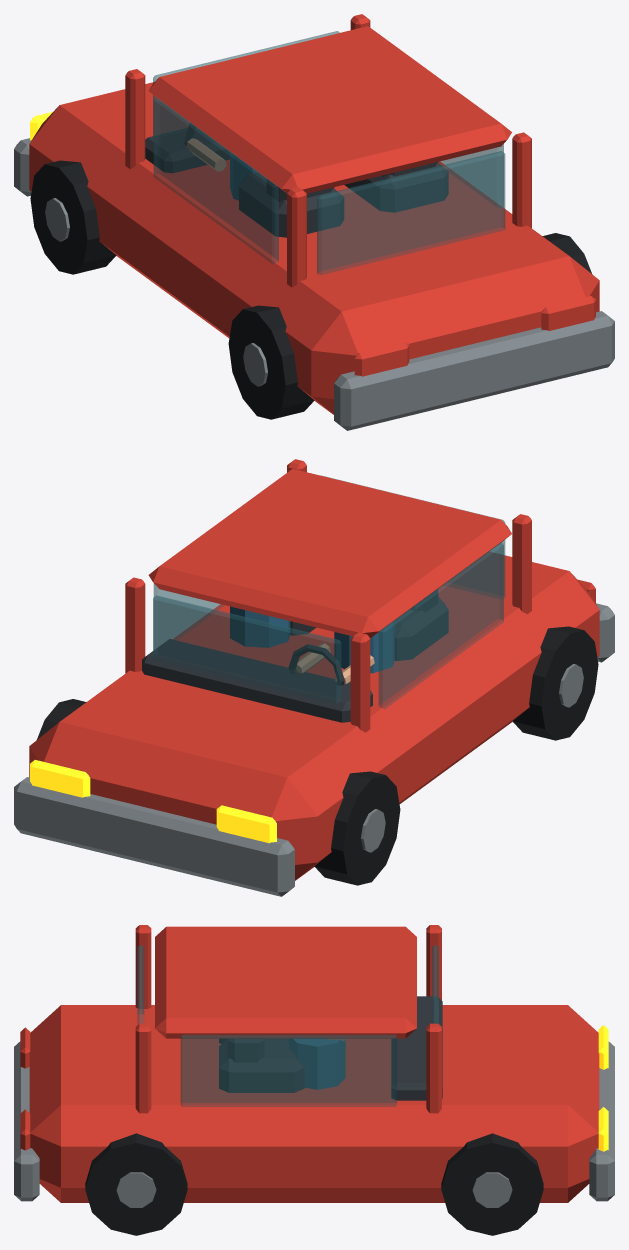
The model's file is car.glb.
The picture shows the model from 3 angles, top to bottom: view 1: azimuth 30°, elevation 25°; view 2: azimuth 150°, elevation 25°; view 3: azimuth 270°, elevation 25°; orthographic projection. The views are drawn at different scales.
Visible parts, largest first — view 1: CarBody, CarBodyRoof, RearBumper, RearWindow, SideWindow, Wheel, Wheel.001, Seat, Seat.001, Dashboard, SideWindow.001, CarBodyPillar (+11 smaller); view 2: CarBody, CarBodyRoof, FrontBumper, FrontWindow, SideWindow, Dashboard, Wheel.001, Wheel, SideWindow.001, Seat, CarBodyPillar, Passenger1Torso (+11 smaller); view 3: CarBody, CarBodyRoof, SideWindow.001, Wheel.002, Wheel.003, Seat.001, Dashboard, RearBumper, FrontBumper, Passenger1Torso, CarBodyPillar.003, CarBodyPillar.002 (+9 smaller).
Boxes of the visible parts, box(x1,y1,x2,y2) form: CarBody: box(29, 82, 599, 414); CarBodyRoof: box(149, 26, 511, 193); RearBumper: box(334, 311, 614, 430); RearWindow: box(317, 151, 505, 274); SideWindow: box(153, 97, 278, 263); Wheel: box(30, 160, 116, 274); Wheel.001: box(228, 305, 314, 419); Seat: box(239, 172, 343, 237); Seat.001: box(344, 162, 448, 212); Dashboard: box(145, 127, 229, 172); SideWindow.001: box(438, 144, 503, 206); CarBodyPillar: box(125, 69, 145, 169); CarBody: box(29, 552, 599, 880); CarBodyRoof: box(148, 469, 511, 638); FrontBumper: box(14, 777, 294, 896); FrontWindow: box(153, 595, 341, 703); SideWindow: box(378, 543, 503, 708); Dashboard: box(142, 639, 372, 722); Wheel.001: box(512, 626, 598, 740); Wheel: box(314, 771, 400, 885); SideWindow.001: box(153, 583, 224, 649); Seat: box(395, 597, 448, 660); CarBodyPillar: box(350, 632, 370, 732); Passenger1Torso: box(230, 606, 290, 647); CarBody: box(29, 1005, 599, 1202); CarBodyRoof: box(155, 926, 416, 1038); SideWindow.001: box(180, 1035, 396, 1106); Wheel.002: box(441, 1133, 543, 1235); Wheel.003: box(85, 1133, 187, 1235); Seat.001: box(219, 1039, 304, 1092); Dashboard: box(391, 996, 442, 1100); RearBumper: box(14, 1041, 39, 1201); FrontBumper: box(589, 1041, 614, 1201); Passenger1Torso: box(289, 1039, 345, 1089); CarBodyPillar.003: box(135, 1023, 151, 1113); CarBodyPillar.002: box(426, 1023, 441, 1113).
Bounding box in the file's own units: 2.32 × 1.51 × 4.22.
